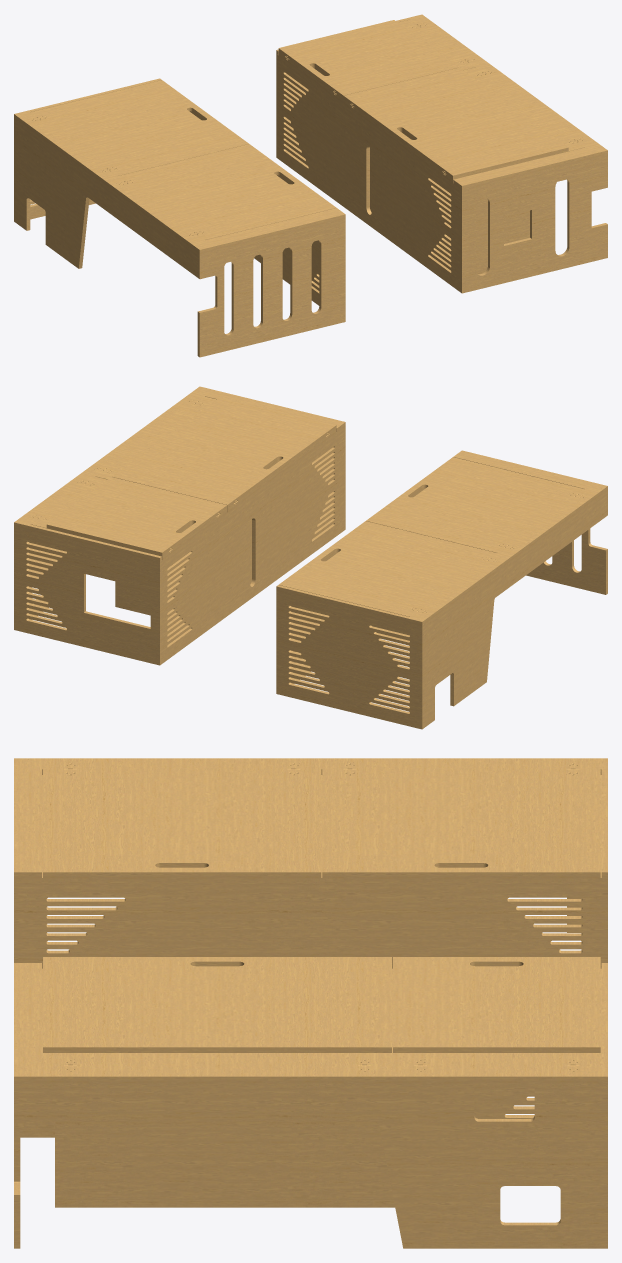
The model's file is bench-three.glb.
The picture shows the model from 3 angles, top to bottom: view 1: azimuth 30°, elevation 25°; view 2: azimuth 150°, elevation 25°; view 3: azimuth 270°, elevation 25°; orthographic projection. The views are drawn at different scales.
Parts seen in each view (by area): view 1: Document.001; view 2: Document.001; view 3: Document.001.
Part boxes in pixels (x1,y1,x2,y2): Document.001: (14, 14, 607, 357); Document.001: (14, 386, 607, 729); Document.001: (14, 758, 607, 1248).
Size of the model in its own units: 1.75 by 0.455 by 1.38.
1 material, 1 textured.
